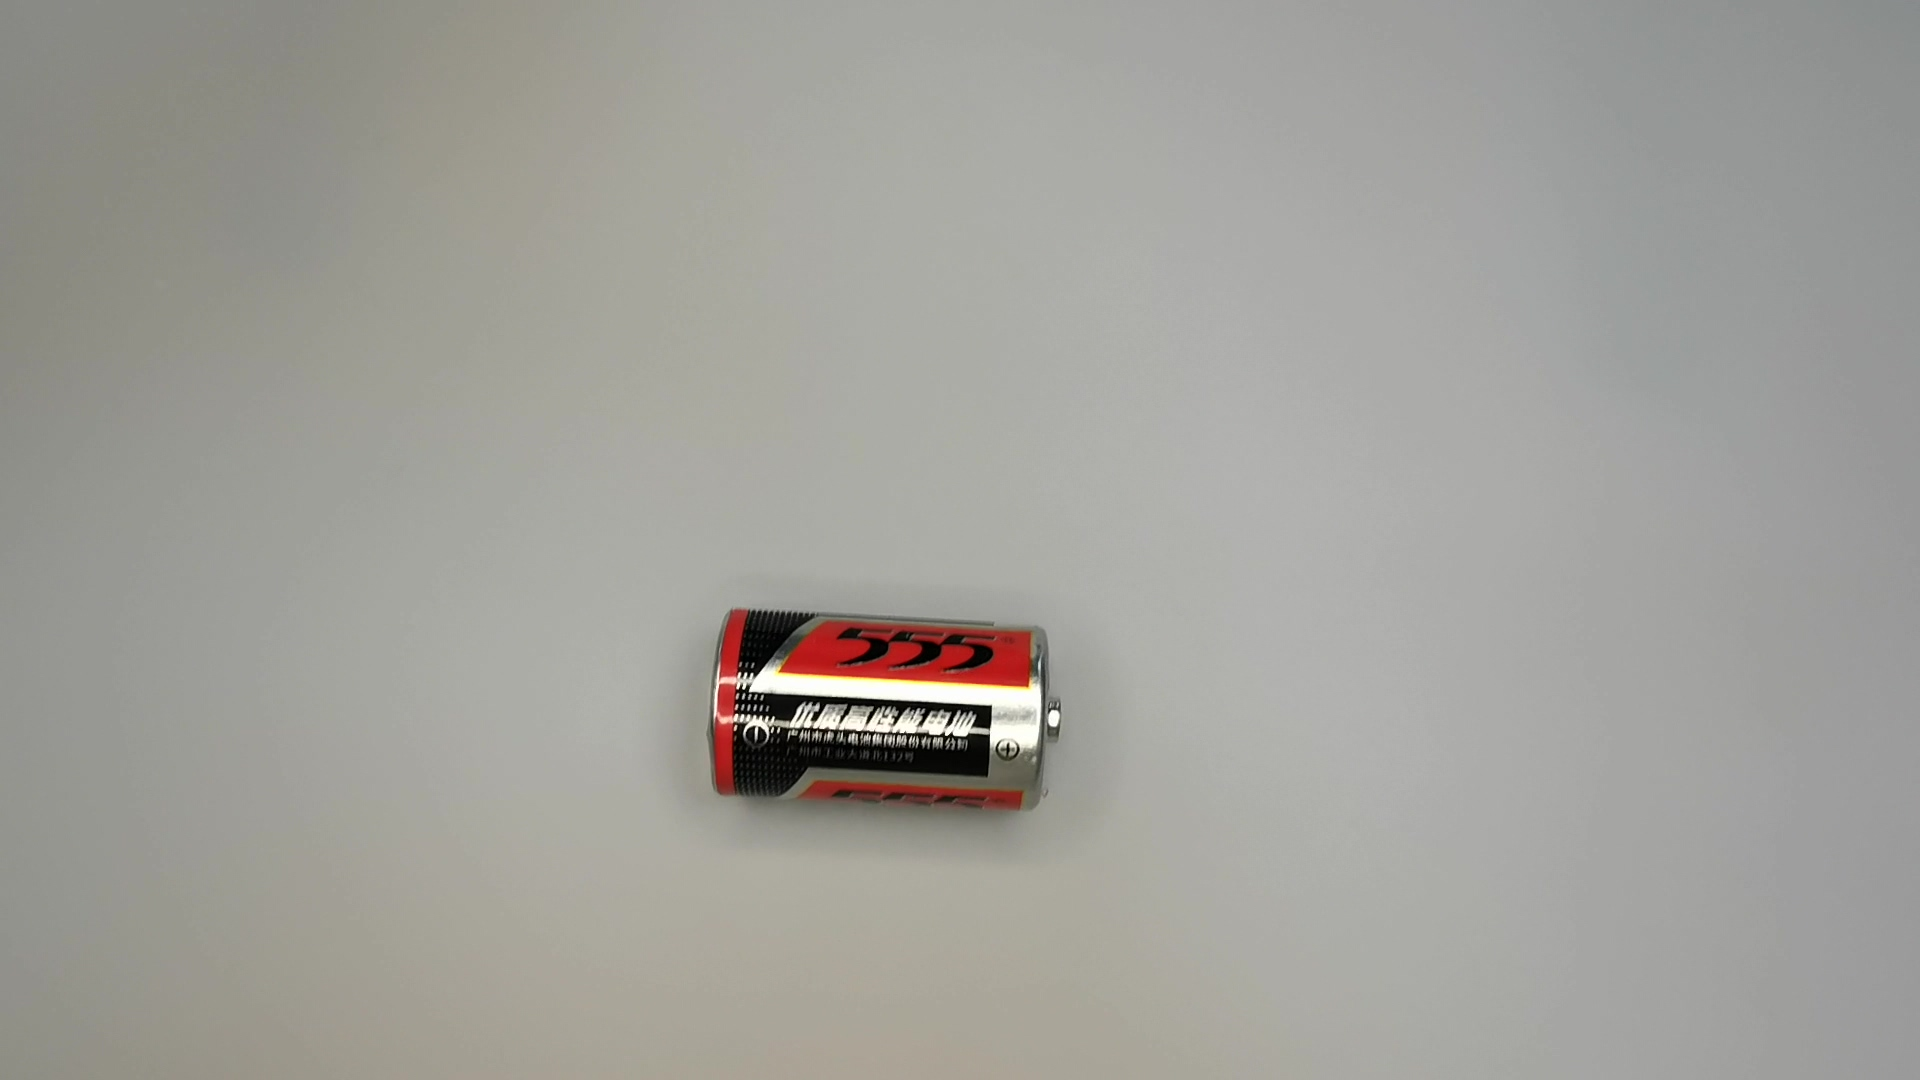battery: (703, 603, 1062, 820)
